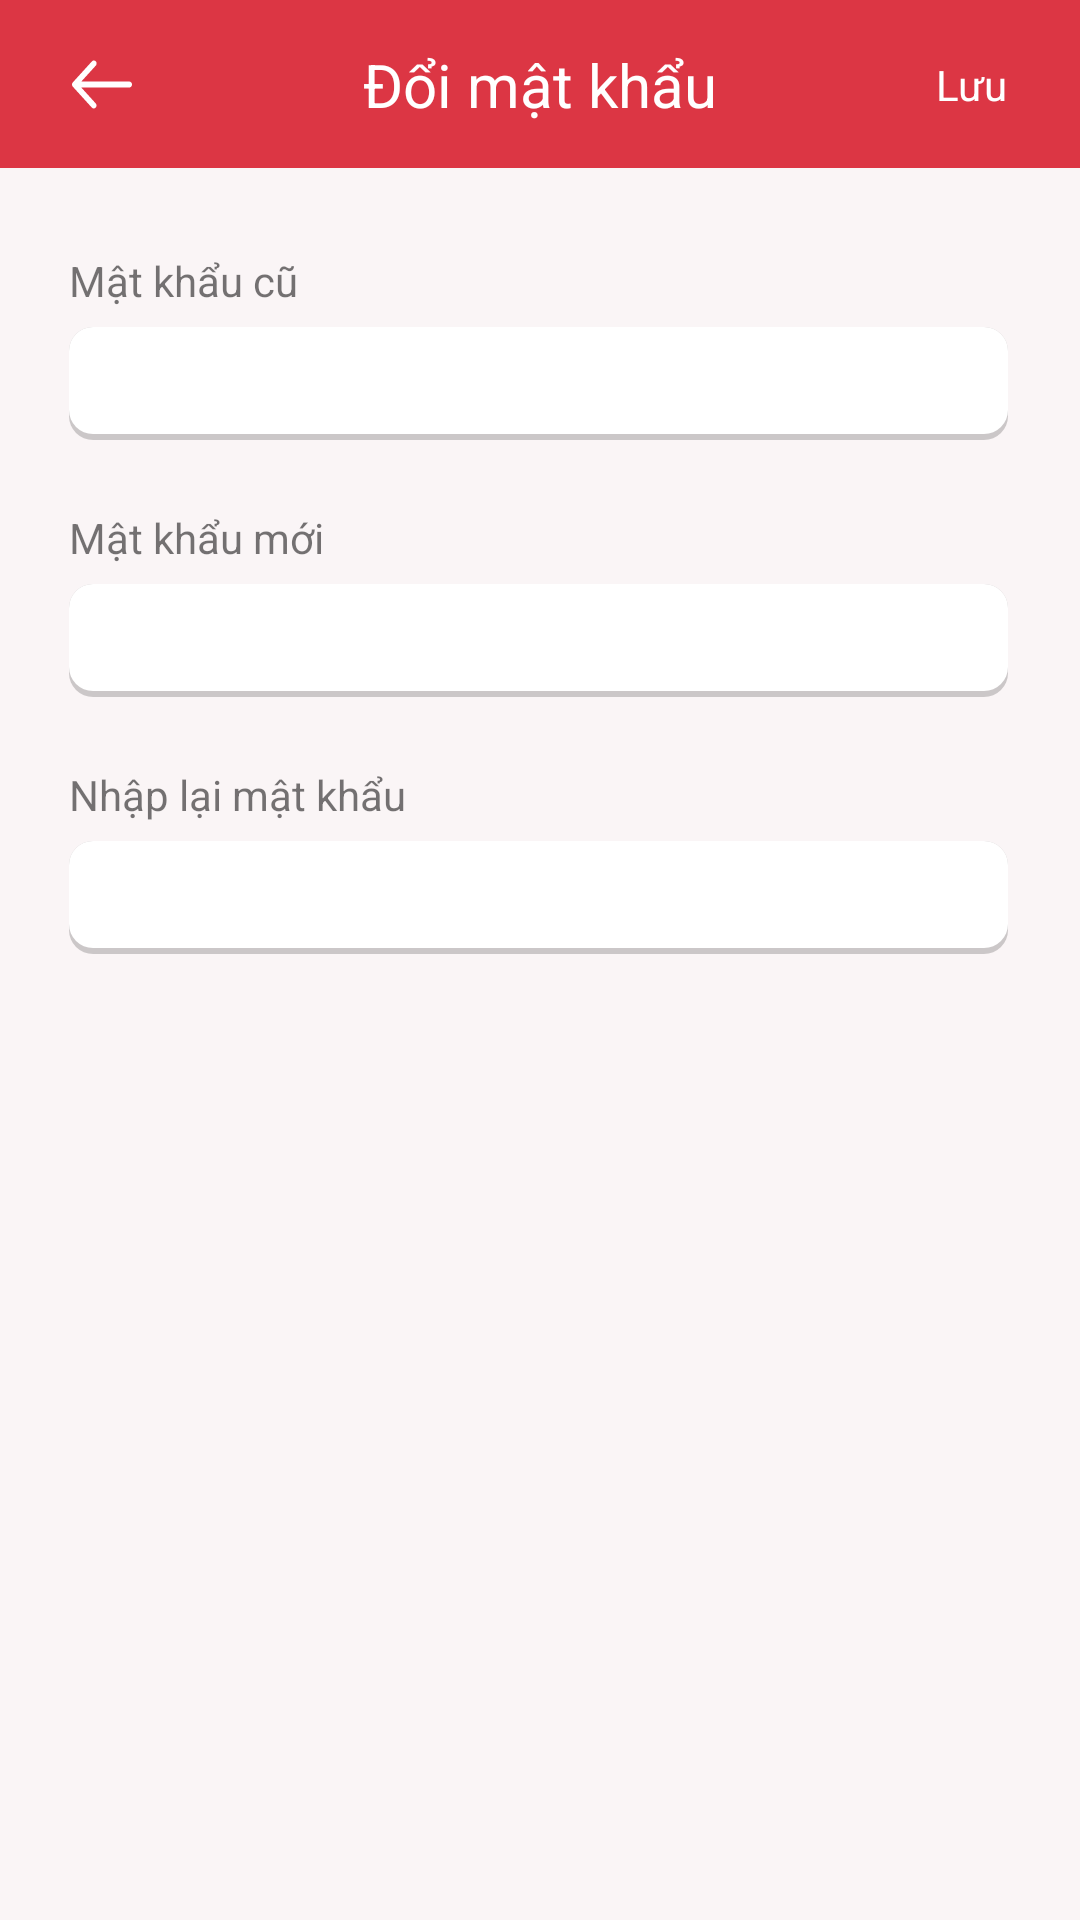

Icons on this 1080 x 1920 Android screen, each with its box as [x1, y1, x2, y2]:
back: [72, 60, 132, 109]
